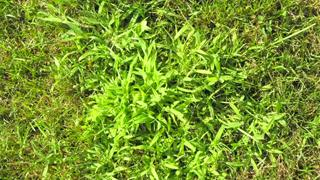crabgrass: (62, 17, 280, 168)
